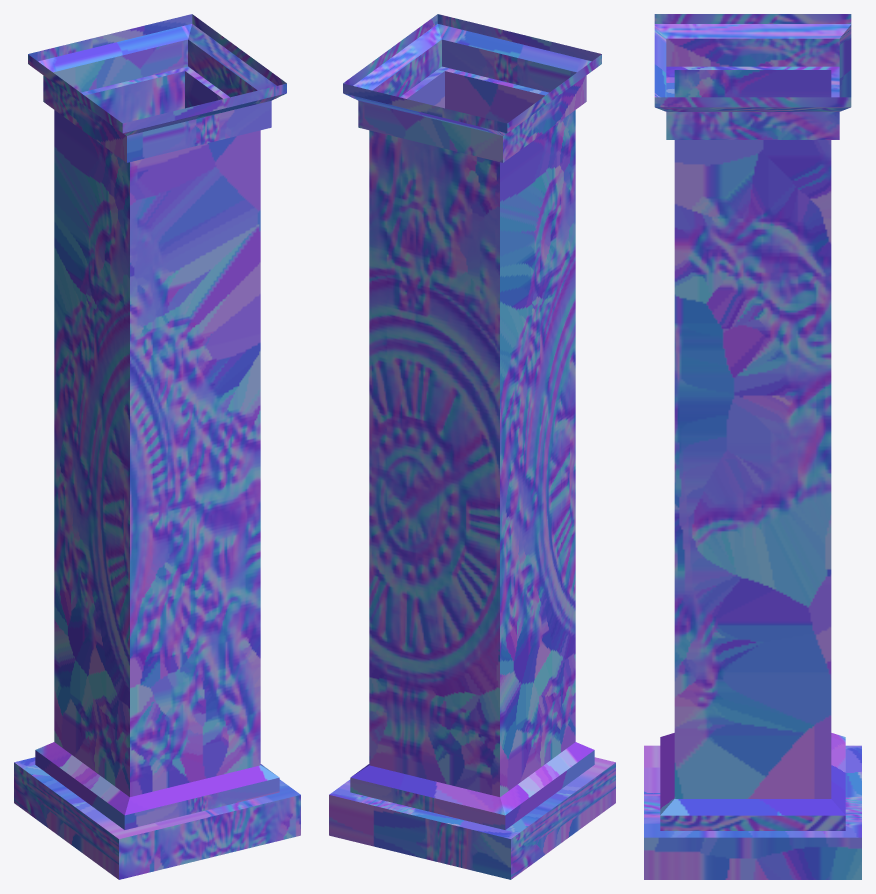
3 renders of one model, left to right at view 1: azimuth 30°, elevation 25°; view 2: azimuth 150°, elevation 25°; view 3: azimuth 270°, elevation 25°, orthographic. The views are drawn at different scales.
Parts seen in each view (by area): view 1: DDDDDDDDD06; view 2: DDDDDDDDD06; view 3: DDDDDDDDD06.
Boxes of the visible parts, box(x1,y1,x2,y2) form: DDDDDDDDD06: box(14, 14, 300, 879); DDDDDDDDD06: box(329, 14, 615, 879); DDDDDDDDD06: box(644, 14, 861, 879).
Size of the model in its own units: 222 by 876 by 222.
